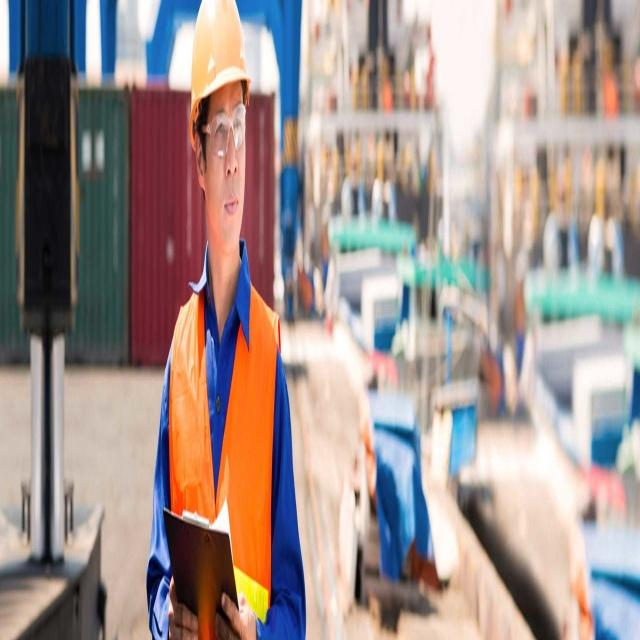helmet: (189, 3, 249, 340)
vest: (159, 363, 285, 640)
